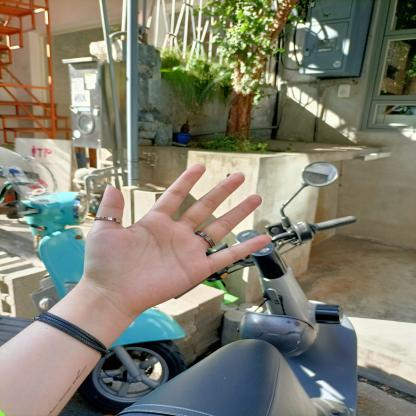bare_hand: (72, 152, 278, 322)
